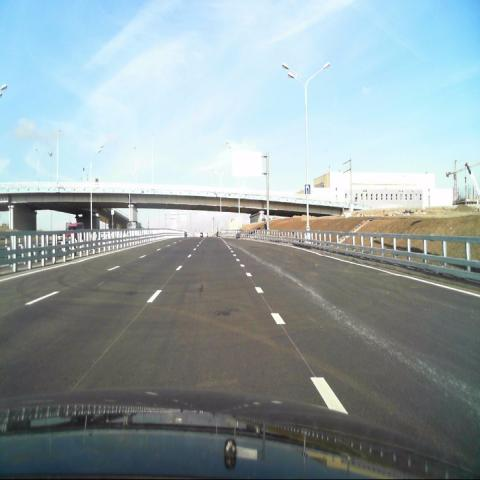5_15_5: (304, 182, 311, 194)
